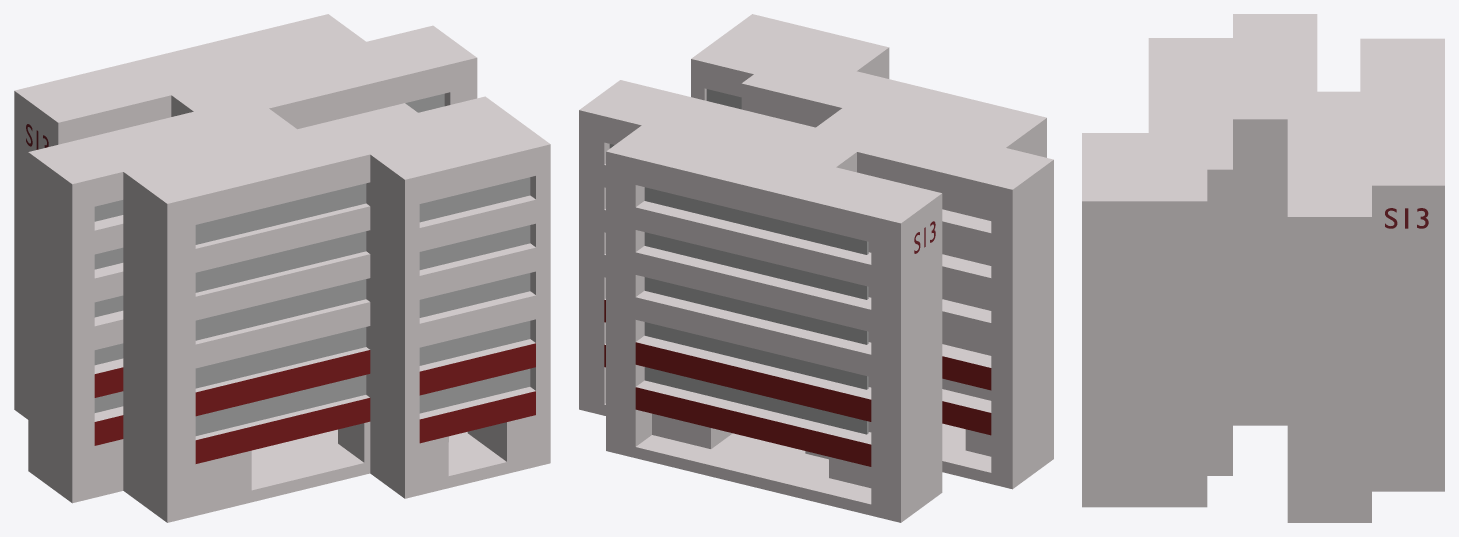
3 views of the same model, side by side, from view 1: azimuth 30°, elevation 25°; view 2: azimuth 150°, elevation 25°; view 3: azimuth 270°, elevation 25° (orthographic). The views are drawn at different scales.
Visible parts, largest first — view 1: Cube.005, Cube.022, Cube.004, Cube.003, Cube.006, Cube.001, Cube.012, Cube.007; view 2: Cube.003, Cube.004, Cube.001, Cube.009, Cube.005, Cube.022; view 3: Cube.022, Cube.001, Cube.003, Cube.004, Cube.005.
Boxes of the visible parts, <box> form: Cube.005: <box>123,103,448,522</box>; Cube.022: <box>340,96,550,498</box>; Cube.004: <box>28,97,296,503</box>; Cube.003: <box>14,14,370,419</box>; Cube.006: <box>195,183,366,435</box>; Cube.001: <box>166,25,477,129</box>; Cube.012: <box>419,177,530,413</box>; Cube.007: <box>94,200,123,412</box>; Cube.003: <box>606,125,942,522</box>; Cube.004: <box>804,108,1053,489</box>; Cube.001: <box>579,80,870,459</box>; Cube.009: <box>644,187,868,434</box>; Cube.005: <box>741,53,1046,157</box>; Cube.022: <box>691,14,889,100</box>; Cube.022: <box>1082,133,1207,507</box>; Cube.001: <box>1287,91,1371,522</box>; Cube.003: <box>1360,38,1444,491</box>; Cube.004: <box>1233,14,1317,425</box>; Cube.005: <box>1148,38,1232,475</box>.
Bounding box in the file's own units: 56.86 × 41 × 42.97.
